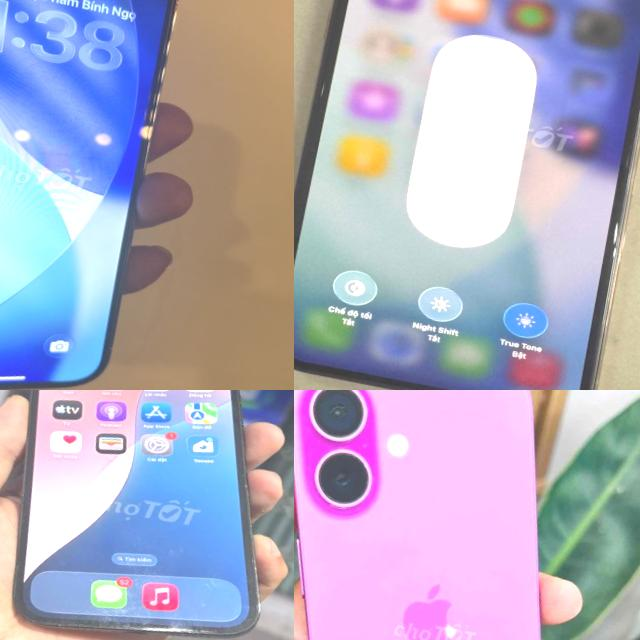gen_11: (294, 0, 640, 390)
gen_12_13: (0, 0, 202, 390), (0, 390, 294, 640)
gen_16: (294, 390, 539, 640)
